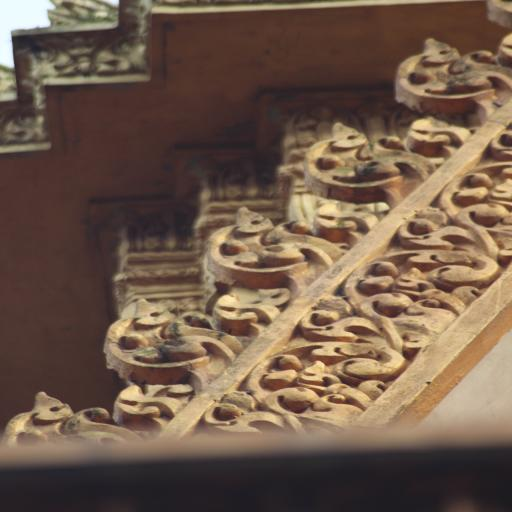la: (395, 186, 505, 296), (216, 356, 370, 430), (304, 266, 430, 355)
lua: (390, 38, 512, 114), (310, 120, 430, 194), (206, 209, 324, 280), (114, 296, 228, 369), (15, 388, 125, 439)
